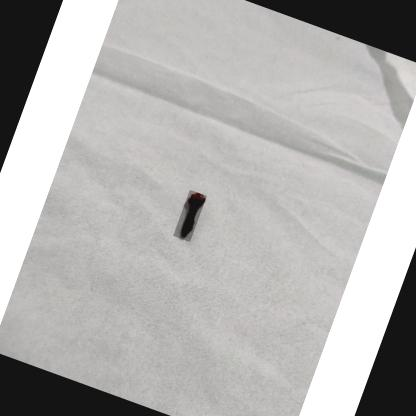sedang: (179, 193, 205, 239)
